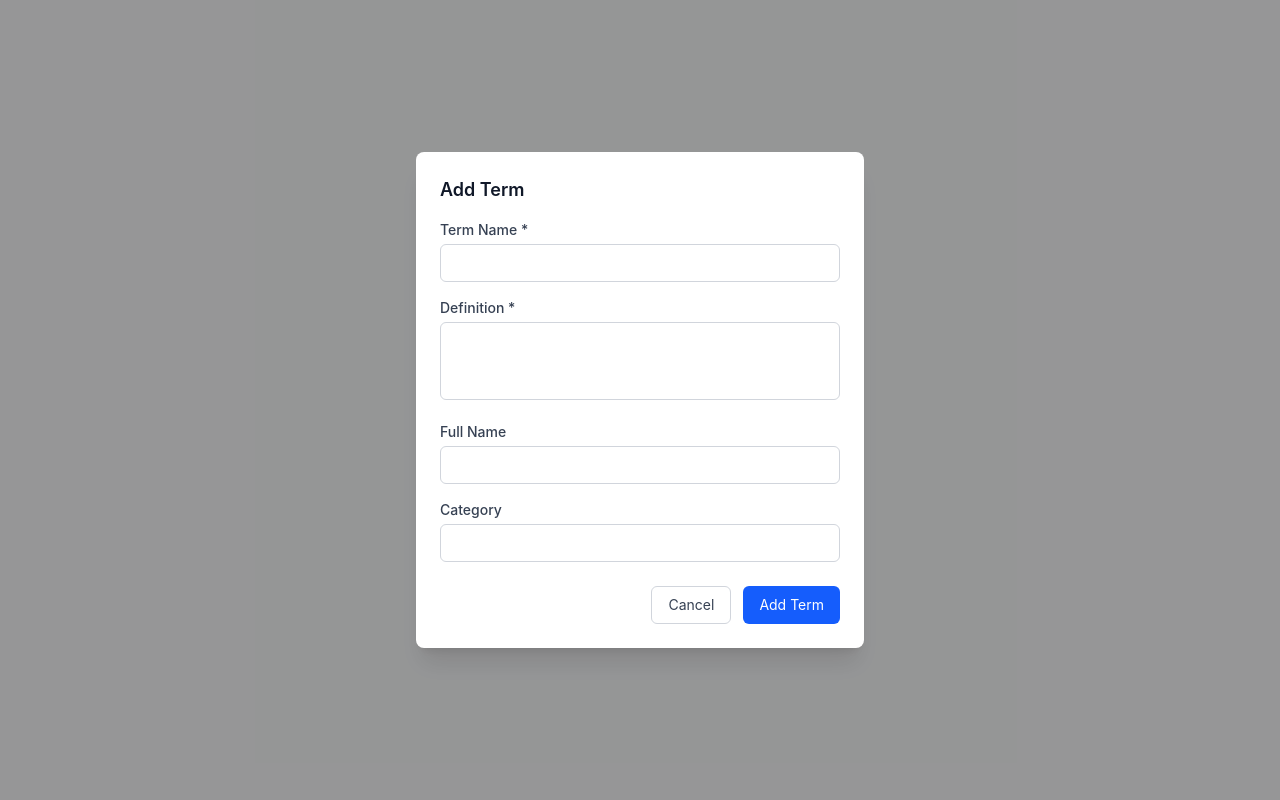
Test: AddTermModal › validates required fields — shows error when definition is empty on submit
Type "BART" into the field labelled "Term Name *" at (640, 263), box [440,244,840,282]
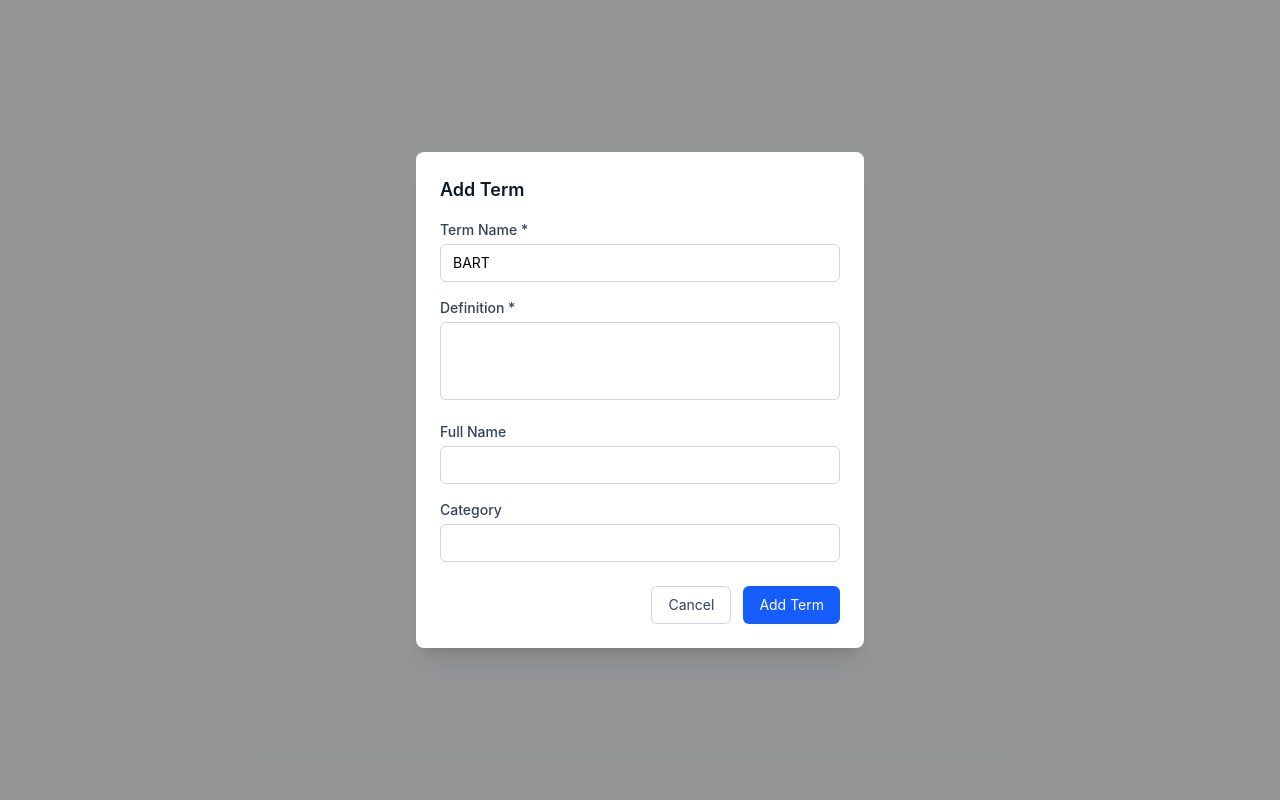
Click the button "Add Term" at (792, 605), box [743,586,840,624]
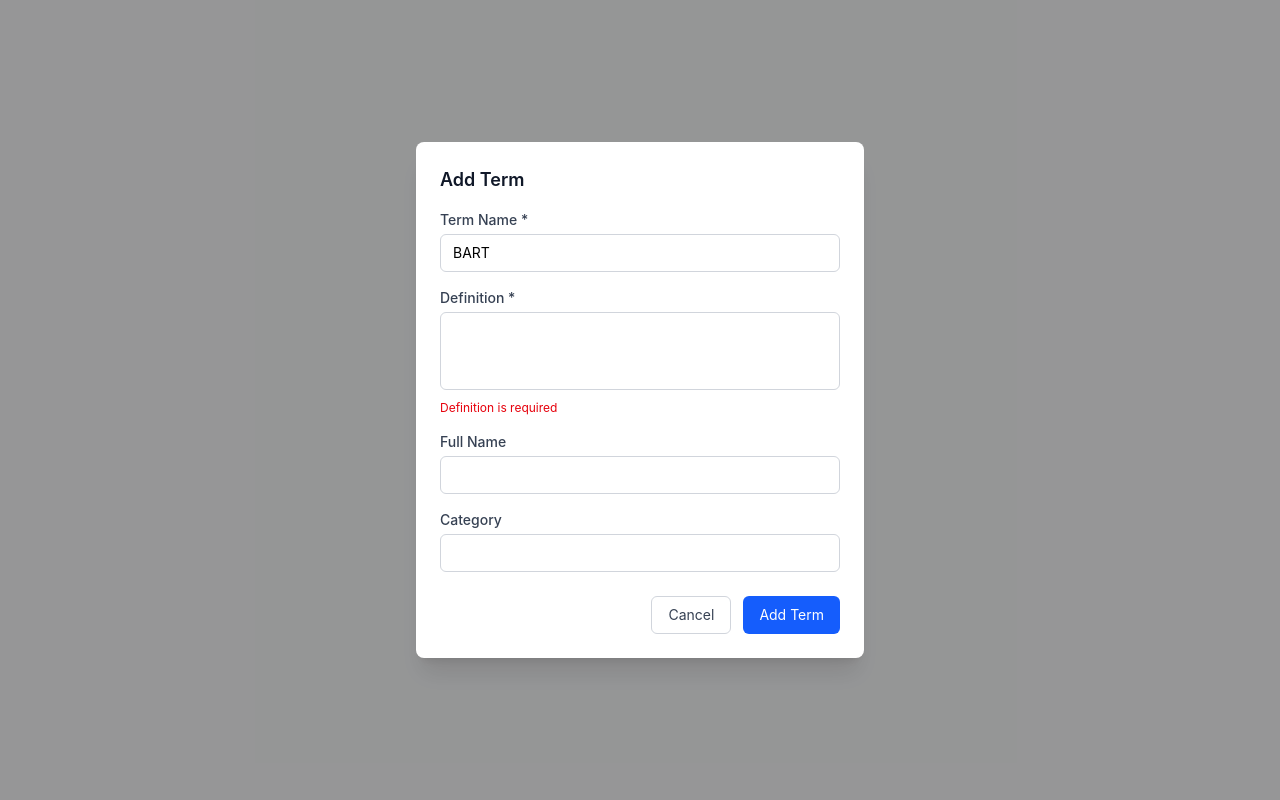
Expected: the text "Definition is required" is shown, [440,400,557,415]
